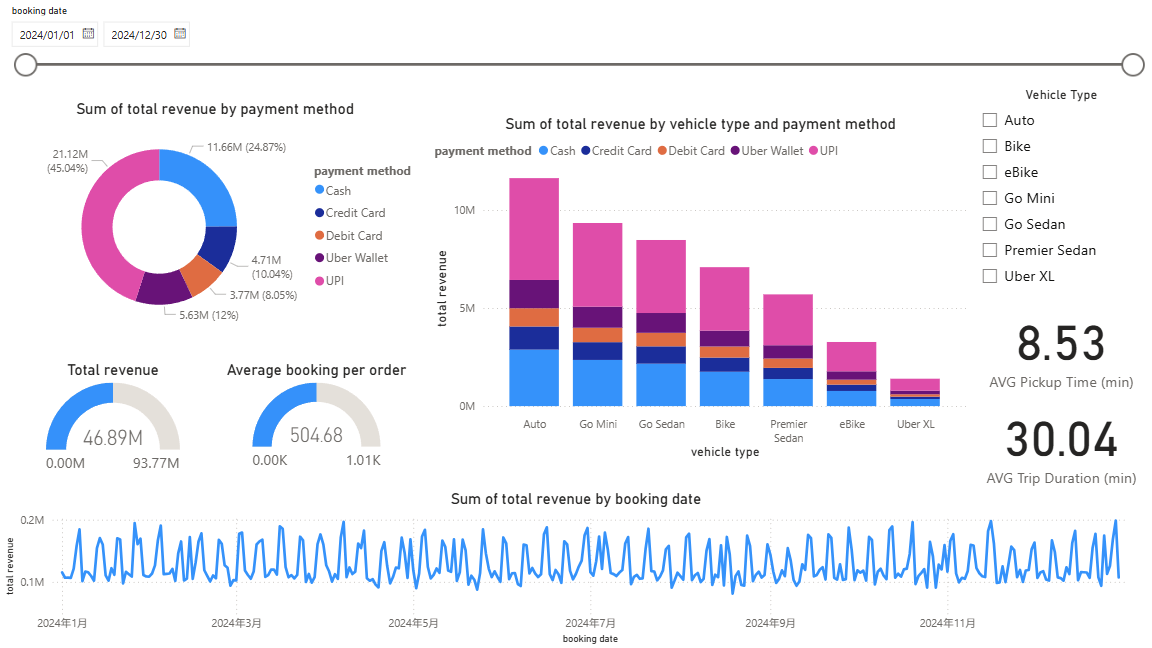

What the dashboard file says about the page in this screenshot:
{"tool":"powerbi","page":{"name":"Successful Ride Summary","canvas":[1280,720],"ordinal":0},"visuals":[{"type":"donutChart","title":"Sum of total revenue by payment method","fields":{"Series":["public revenue_summary.payment_method"],"Y":["Sum(public revenue_summary.total_revenue)"]},"box":[0,111.1,477.8,263.3],"z":0},{"type":"lineChart","title":"Sum of total revenue by booking date","fields":{"Y":["Sum(public revenue_summary.total_revenue)"],"Category":["public revenue_summary.ride_date"]},"box":[0,544.4,1280,175.6],"z":1000},{"type":"gauge","title":"Total revenue","fields":{"Y":["Sum(public revenue_summary.total_revenue)"]},"box":[11.1,401.1,228.9,134.4],"z":2000},{"type":"gauge","title":"Average booking per order","fields":{"Y":["Avg(public revenue_summary.avg_booking_value)"]},"box":[238.9,401.1,225.6,131.1],"z":3000},{"type":"columnChart","title":"Sum of total revenue by vehicle type and payment method","fields":{"Y":["Sum(public revenue_summary.total_revenue)"],"Category":["public revenue_summary.vehicle_type"],"Series":["public revenue_summary.payment_method"]},"box":[477.8,127.8,601.1,387.8],"z":4000},{"type":"slicer","fields":{"Values":["public revenue_summary.ride_date"]},"box":[0,0,1280,96.7],"z":5000},{"type":"slicer","title":"Vehicle Type","fields":{"Values":["public revenue_summary.vehicle_type"]},"box":[1078.9,96.7,201.1,234.4],"z":6000},{"type":"card","fields":{"Values":["Avg(public revenue_summary.avg_pickup_time)"]},"box":[1078.9,331.1,201.1,107.8],"z":7000},{"type":"card","fields":{"Values":["Avg(public revenue_summary.avg_drip_duration)"]},"box":[1078.9,438.9,201.1,105.6],"z":8000}]}

Visuals, with their boxes in screenshot pixels (x1, y1, x2, y2), scaled from the page's 1280x720 canvas onto the 1152x648 screenshot:
"Sum of total revenue by payment method" donutChart: x1=0, y1=100, x2=430, y2=337
"Sum of total revenue by booking date" lineChart: x1=0, y1=490, x2=1151, y2=647
"Total revenue" gauge: x1=10, y1=361, x2=216, y2=482
"Average booking per order" gauge: x1=215, y1=361, x2=418, y2=479
"Sum of total revenue by vehicle type and payment method" columnChart: x1=430, y1=115, x2=971, y2=464
slicer - public revenue_summary.ride_date: x1=0, y1=0, x2=1151, y2=87
"Vehicle Type" slicer: x1=971, y1=87, x2=1151, y2=298
card - Avg(public revenue_summary.avg_pickup_time): x1=971, y1=298, x2=1151, y2=395
card - Avg(public revenue_summary.avg_drip_duration): x1=971, y1=395, x2=1151, y2=490
